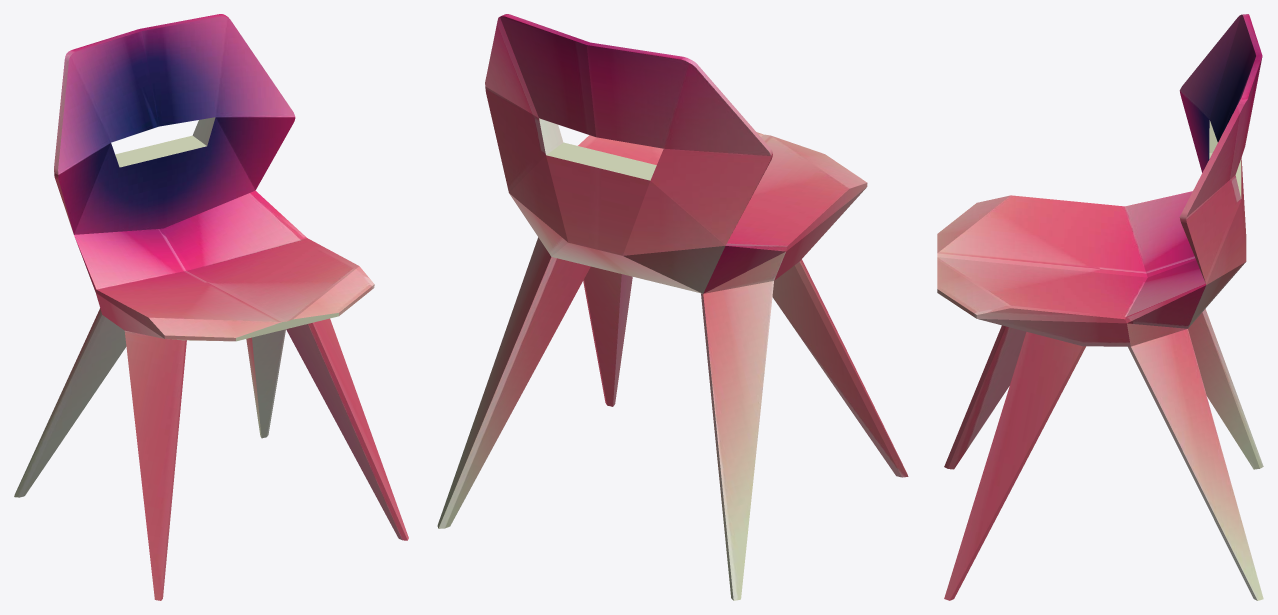
File: chair-model-11.glb
The picture shows the model from 3 angles, left to right: view 1: azimuth 30°, elevation 25°; view 2: azimuth 150°, elevation 25°; view 3: azimuth 270°, elevation 25°; orthographic projection. The views are drawn at different scales.
Visible parts, largest first — view 1: 11.004; view 2: 11.004; view 3: 11.004.
Part boxes in pixels (x1,y1,x2,y2): 11.004: (14, 14, 408, 600); 11.004: (437, 14, 908, 600); 11.004: (937, 14, 1263, 600).
Bounding box in the file's own units: 3.13 × 5.14 × 3.18.
1 material, 1 textured.
